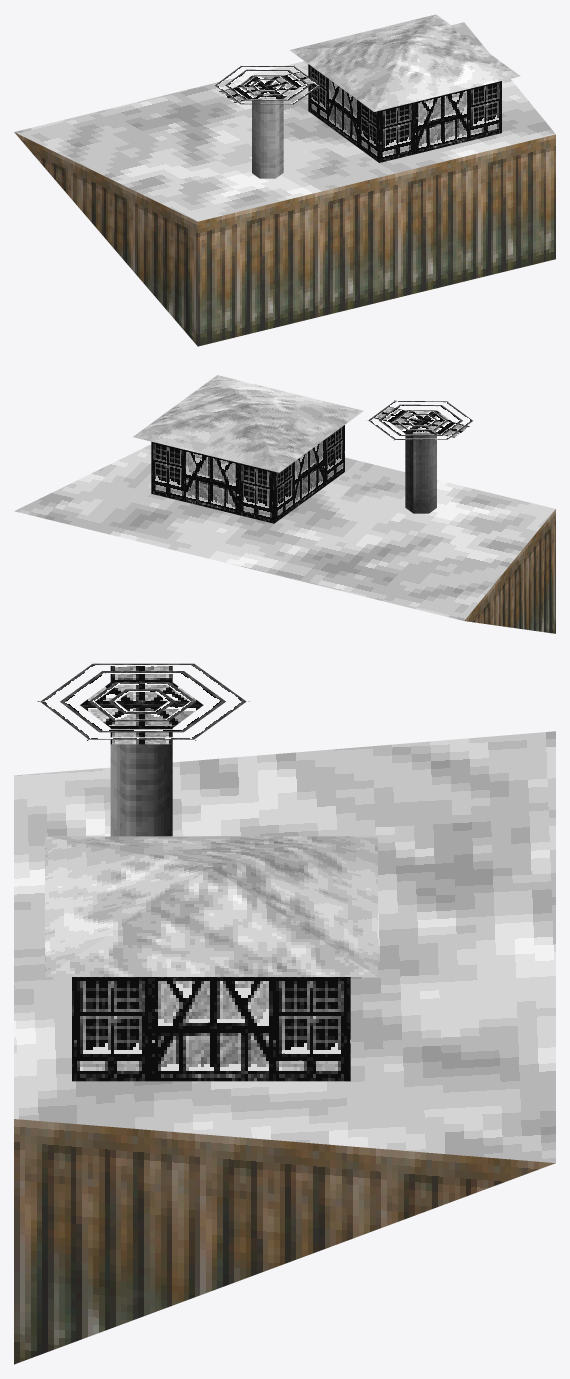
File: uvmd-0201.glb
The picture shows the model from 3 angles, top to bottom: view 1: azimuth 30°, elevation 25°; view 2: azimuth 150°, elevation 25°; view 3: azimuth 270°, elevation 25°; orthographic projection. The views are drawn at different scales.
Visible parts, largest first — view 1: uvmd-0201; view 2: uvmd-0201; view 3: uvmd-0201.
Boxes of the visible parts, bbox=[...] form: uvmd-0201: bbox=[14, 14, 555, 346]; uvmd-0201: bbox=[14, 375, 555, 633]; uvmd-0201: bbox=[14, 663, 555, 1364].
Bounding box in the file's own units: 264 × 119 × 140.
6 materials, 6 textured.
